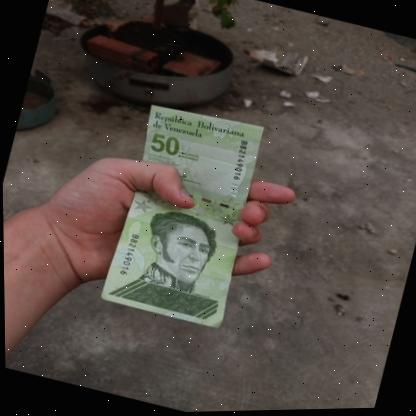fifty-front-vef: (96, 96, 272, 331)
